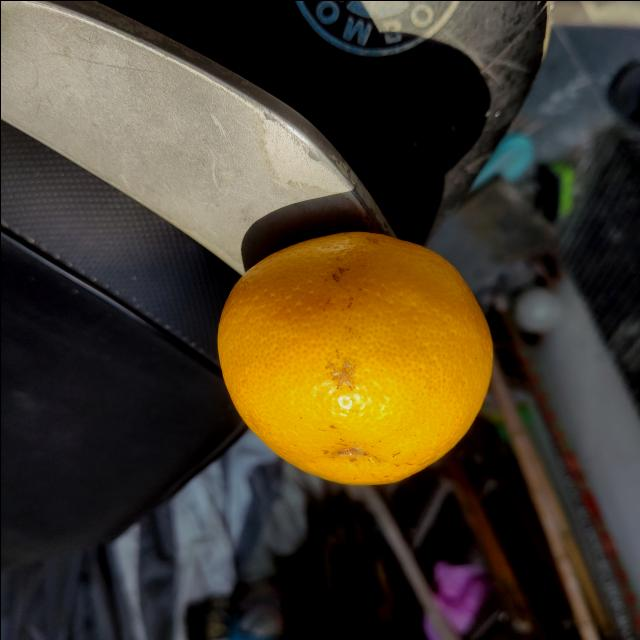orange: (213, 230, 497, 485)
